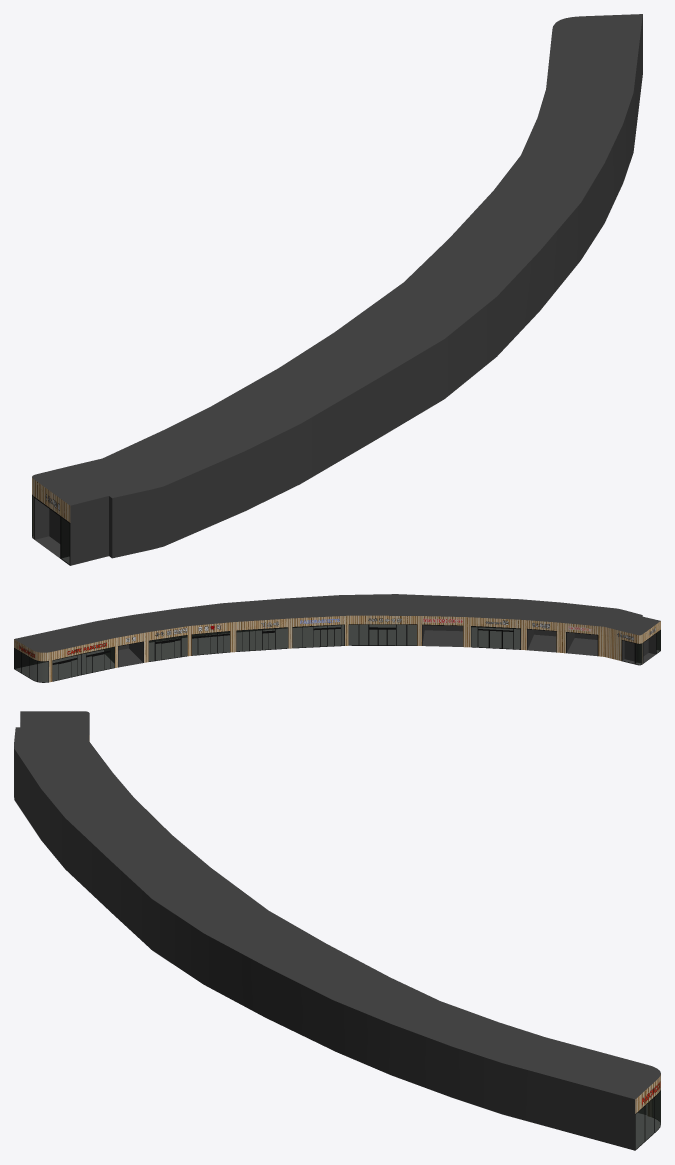
File: SecondMarket.fbx
The picture shows the model from 3 angles, top to bottom: view 1: azimuth 30°, elevation 25°; view 2: azimuth 150°, elevation 25°; view 3: azimuth 270°, elevation 25°; orthographic projection. The views are drawn at different scales.
Visible parts, largest first — view 1: Object011; view 2: Object011; view 3: Object011.
Part boxes in pixels (x1,y1,x2,y2): Object011: (32,14,642,565); Object011: (14,594,660,682); Object011: (14,711,660,1150).
Bounding box in the file's own units: 48.68 × 3 × 34.27.
Materials: 4 (1 with a texture image).
